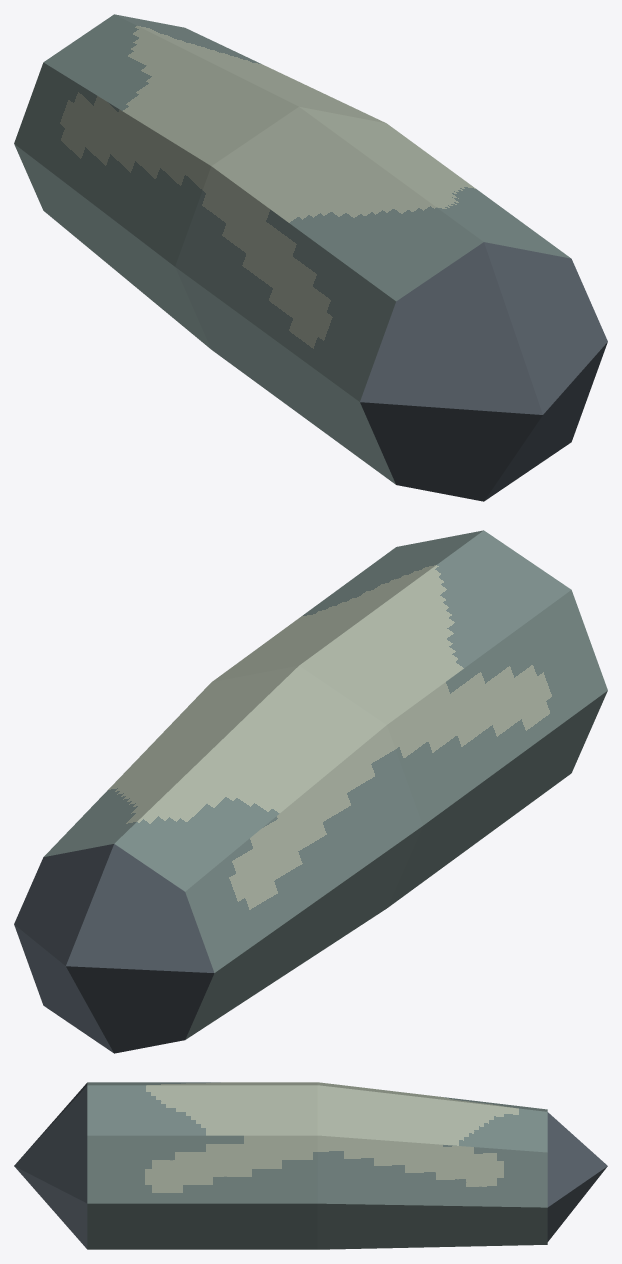
File: god_thigh.glb
The picture shows the model from 3 angles, top to bottom: view 1: azimuth 30°, elevation 25°; view 2: azimuth 150°, elevation 25°; view 3: azimuth 270°, elevation 25°; orthographic projection. The views are drawn at different scales.
Parts seen in each view (by area): view 1: Cube.195; view 2: Cube.195; view 3: Cube.195.
Boxes of the visible parts, box(x1,y1,x2,y2) form: Cube.195: box(14, 14, 607, 501); Cube.195: box(14, 530, 607, 1053); Cube.195: box(14, 1082, 607, 1249).
Size of the model in its own units: 1.88 by 1.88 by 6.26.
1 material, 1 textured.
